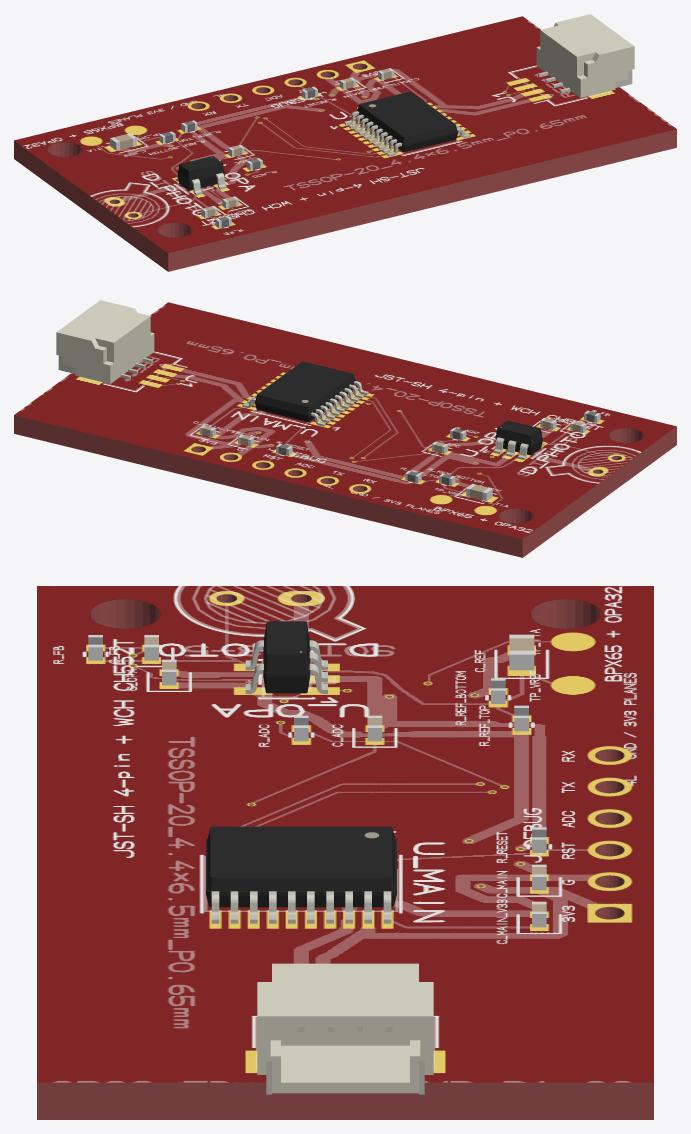
3 renders of one model, top to bottom at view 1: azimuth 30°, elevation 25°; view 2: azimuth 150°, elevation 25°; view 3: azimuth 270°, elevation 25°, orthographic. The views are drawn at different scales.
Parts seen in each view (by area): view 1: Box0, J1, U_MAIN, U_OPA; view 2: Box0, J1, U_MAIN, U_OPA; view 3: Box0, J1, U_MAIN, U_OPA, C_REF.
Boxes of the visible parts, bbox=[...] form: Box0: bbox=[14, 16, 676, 271]; J1: bbox=[536, 14, 634, 97]; U_MAIN: bbox=[344, 91, 470, 156]; U_OPA: bbox=[175, 156, 226, 195]; Box0: bbox=[14, 302, 676, 557]; J1: bbox=[56, 300, 154, 383]; U_MAIN: bbox=[242, 361, 368, 426]; U_OPA: bbox=[493, 420, 544, 459]; Box0: bbox=[37, 586, 653, 1119]; J1: bbox=[257, 963, 433, 1094]; U_MAIN: bbox=[206, 826, 396, 923]; U_OPA: bbox=[245, 621, 327, 693]; C_REF: bbox=[509, 634, 534, 670].
Size of the model in its own units: 41 by 4.36 by 21.
10 materials, 2 textured.
